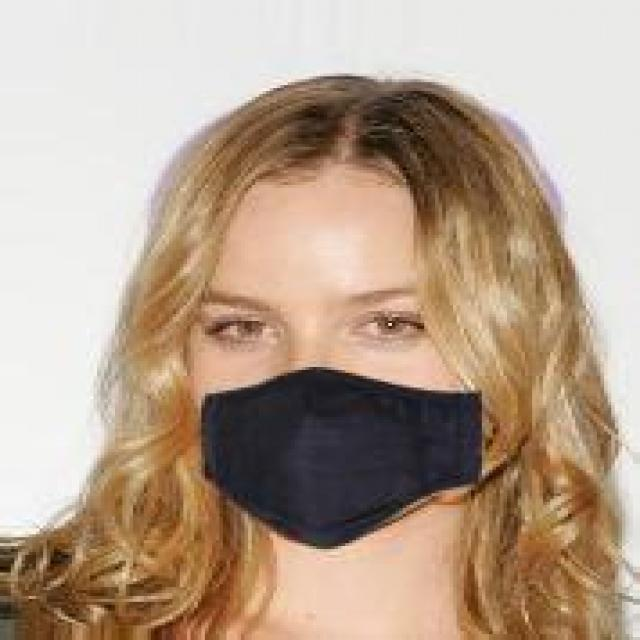mask: (105, 41, 564, 546)
